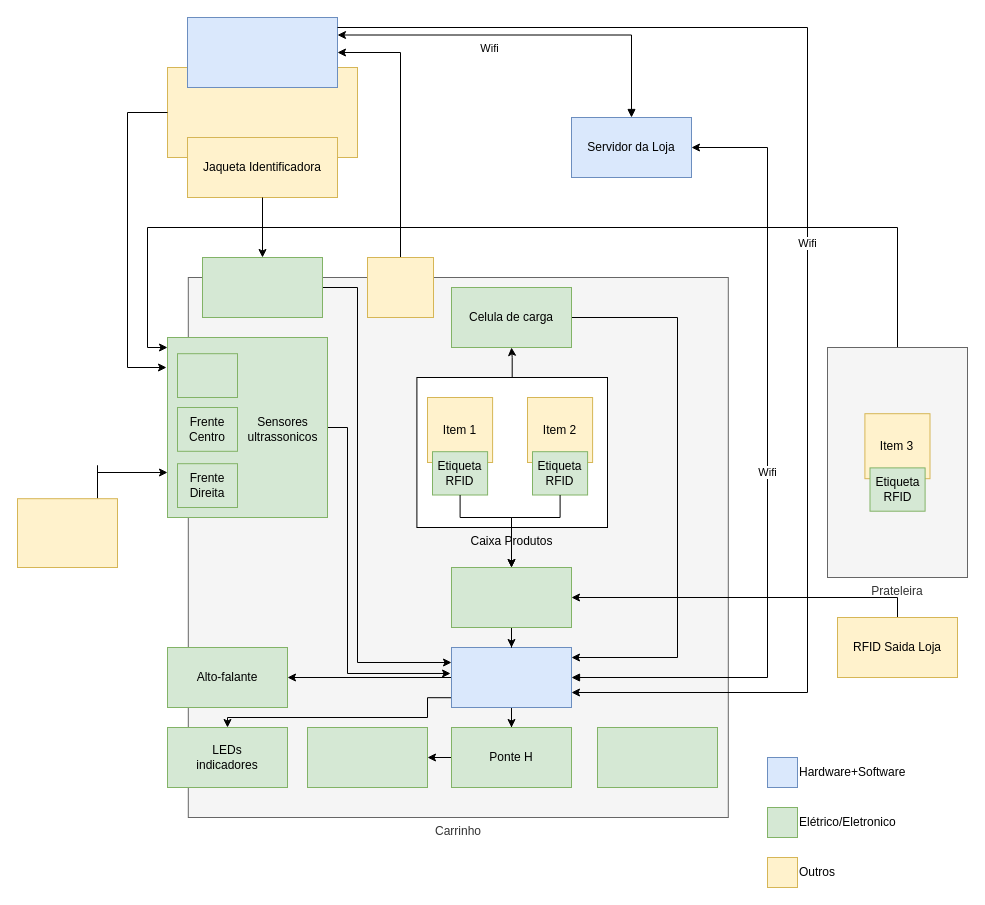
Image size: 985x905. Some labels were removed from this diagram. Each missing label, with the centre of its shape:
"Bateria" goes at [657,757].
"Camera" goes at [262,287].
"Celular" goes at [262,52].
"Comprador" goes at [262,112].
"Frente esquerdo" goes at [207,375].
"Motores DC" goes at [367,757].
"Outros obstaculos (outros clientes, etc)" goes at [67,533].
"QR Code" goes at [400,287].
"Raspberry Pi 3" goes at [511,677].
"Sensor RFID" goes at [511,597].
